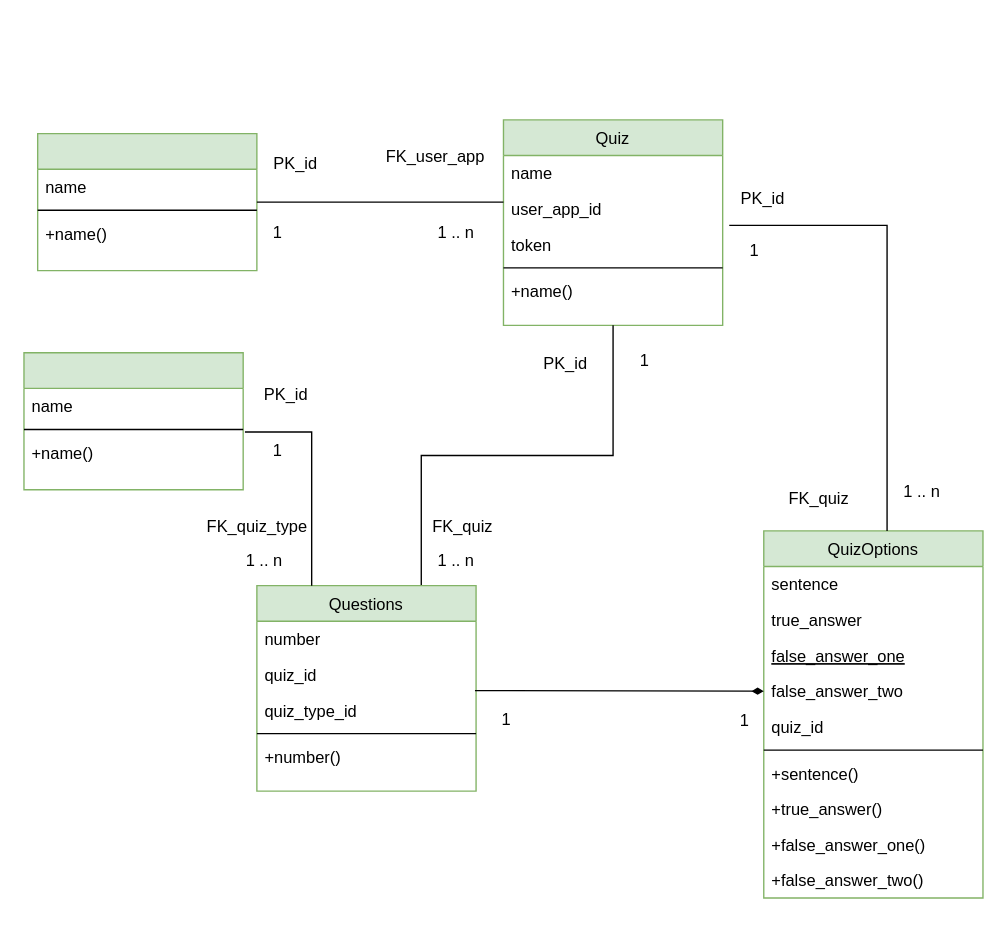
Image size: 1007x925. Some labels were removed from this diagram. Each missing label, with the box of its shape:
Profiles: (36, 132, 257, 271)
QuizType: (23, 351, 243, 490)
